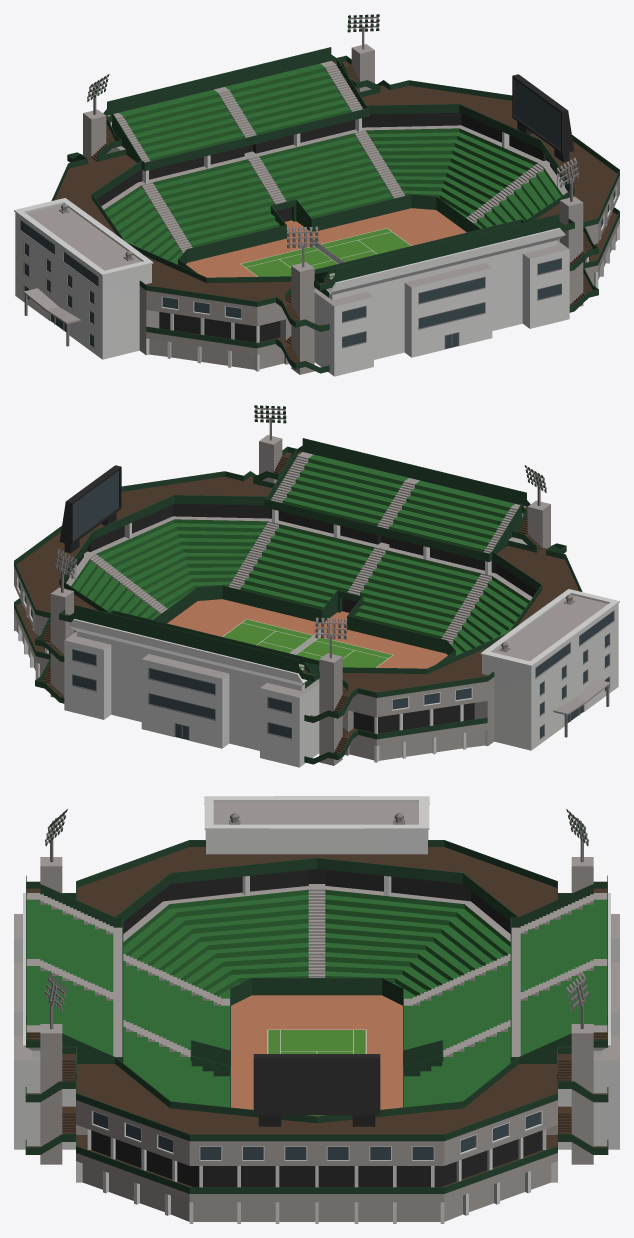
The model's file is buildings_building-stadium.fbx.
The picture shows the model from 3 angles, top to bottom: view 1: azimuth 30°, elevation 25°; view 2: azimuth 150°, elevation 25°; view 3: azimuth 270°, elevation 25°; orthographic projection. The views are drawn at different scales.
Parts seen in each view (by area): view 1: buildings_building_stadium; view 2: buildings_building_stadium; view 3: buildings_building_stadium.
Part boxes in pixels (<box>): buildings_building_stadium: <box>14,14,619,376</box>; buildings_building_stadium: <box>14,405,619,767</box>; buildings_building_stadium: <box>14,796,619,1223</box>.
Bounding box in the file's own units: 200 × 50.94 × 157.
